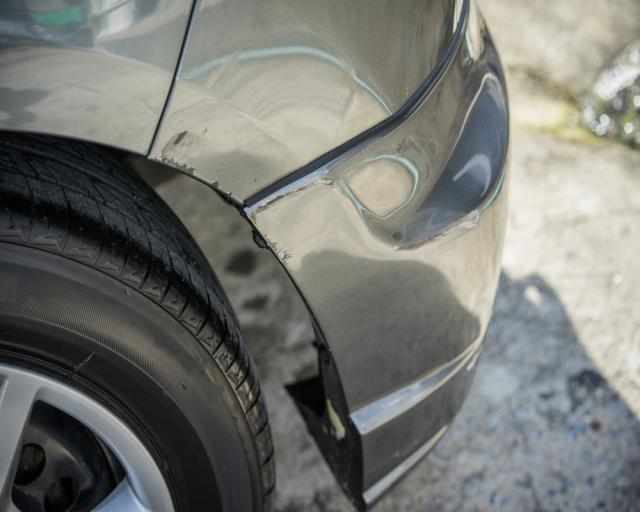scratch: (244, 171, 340, 271), (161, 128, 234, 199), (394, 210, 483, 256)
